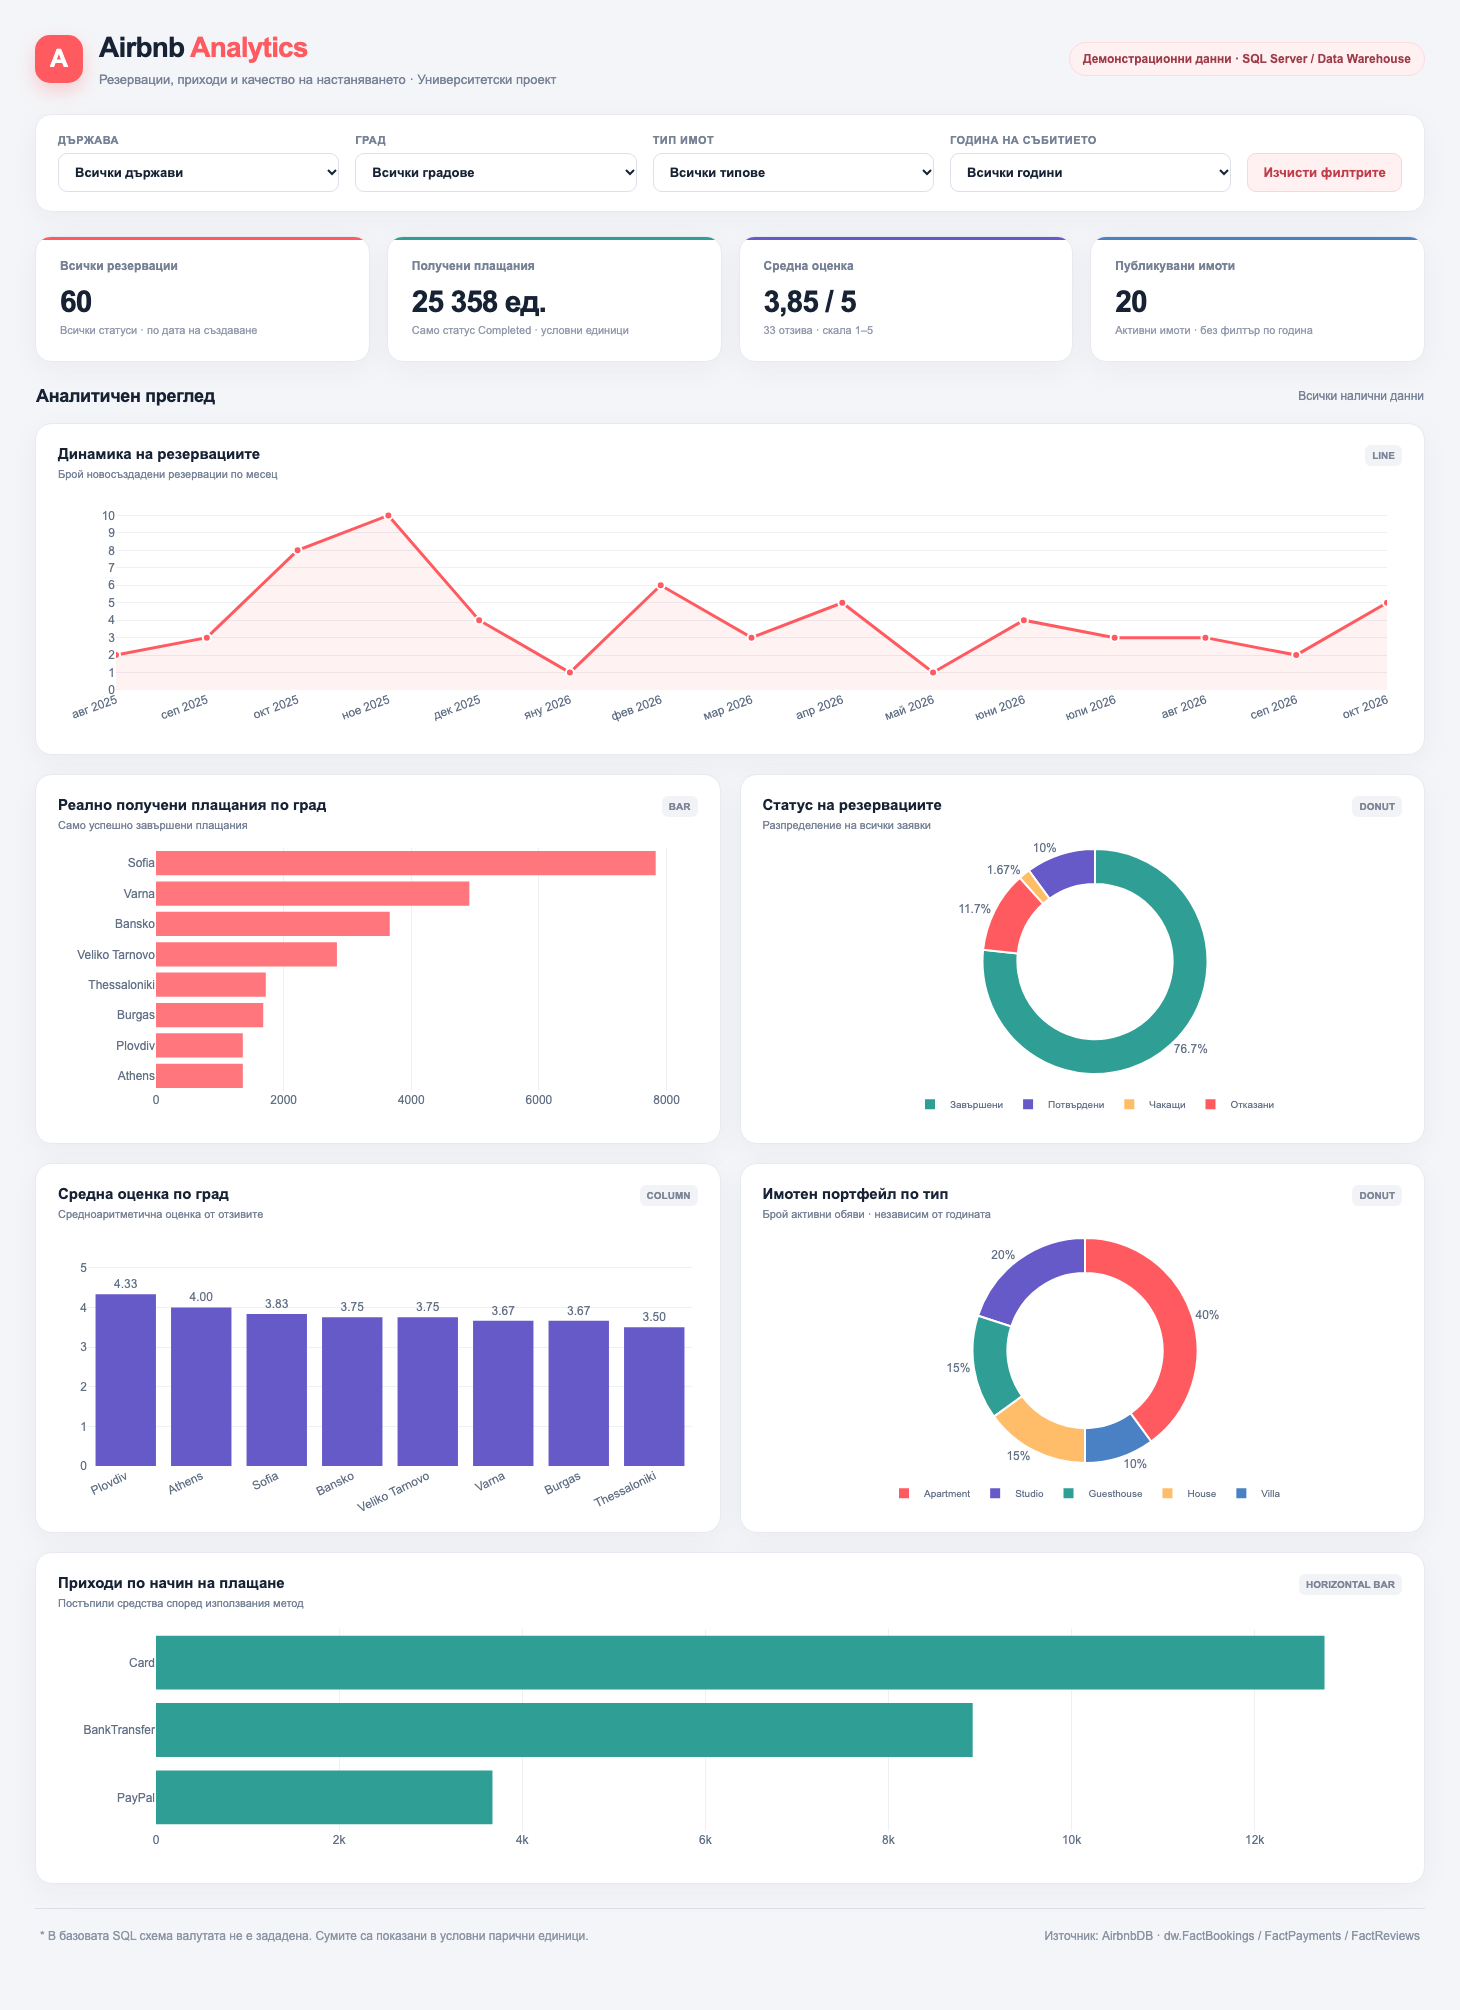

The page's visual inventory and layout, read from the dashboard file:
{"tool":"powerbi","page":{"name":"Airbnb Analytics","canvas":[1280,1720],"ordinal":0},"visuals":[{"type":"cardVisual","fields":{"Data":["FactBookings.Total Bookings"]},"box":[65,245,229,45],"z":0},{"type":"cardVisual","fields":{"Data":["FactPayments.Collected Revenue"]},"box":[365,245.2,260,45],"z":1000},{"type":"cardVisual","fields":{"Data":["FactReviews.Average Rating"]},"box":[680,245,230,45],"z":2000},{"type":"cardVisual","fields":{"Data":["FactBookings.Listings by Location"]},"box":[985,245,230,45],"z":3000},{"type":"lineChart","title":"Booking by Month","fields":{"Category":["DimDate.YearMonth"],"Y":["FactBookings.Total Bookings"]},"box":[78.2,431.7,1150.6,218.1],"z":4000},{"type":"clusteredBarChart","title":"Revenue by City","fields":{"Category":["DimLocation.CityName"],"Y":["FactPayments.Collected Revenue"]},"box":[76,752,537,239],"z":5000},{"type":"donutChart","title":"Booking Status Distribution","fields":{"Category":["DimBookingStatus.BookingStatusName"],"Y":["FactBookings.Total Bookings"]},"box":[678,752,537,239],"z":6000},{"type":"clusteredColumnChart","title":"Average Rating by City","fields":{"Category":["DimLocation.CityName"],"Y":["FactReviews.Average Rating"]},"box":[76,1104,537,234],"z":7000},{"type":"donutChart","title":"Property Types Distribution","fields":{"Category":["DimProperty.PropertyType"],"Y":["FactBookings.Listings by Location"]},"box":[678,1104,537,234],"z":12000},{"type":"clusteredBarChart","title":"Revenue by Payment Method","fields":{"Category":["DimPaymentMethod.PaymentMethodName"],"Y":["FactPayments.Collected Revenue"]},"box":[76,1434,1149,214],"z":13000},{"type":"slicer","title":"Select Country","fields":{"Values":["DimLocation.CountryName"]},"box":[75,140,245,40],"z":14000},{"type":"slicer","title":"Select City","fields":{"Values":["DimLocation.CityName"]},"box":[330,140,245,40],"z":15000},{"type":"slicer","title":"Select Property Type","fields":{"Values":["DimProperty.PropertyType"]},"box":[590,140,245,40],"z":16000},{"type":"slicer","title":"Select Year","fields":{"Values":["DimDate.YearNumber"]},"box":[844,140,245,40],"z":17000},{"type":"actionButton","box":[1100,140,145,40],"z":18000}]}

Visuals, with their boxes in screenshot pixels (x1, y1, x2, y2), scaled from the page's 1280x1720 canvas onto the 1460x2010 screenshot:
cardVisual - FactBookings.Total Bookings: BBox(74, 286, 335, 339)
cardVisual - FactPayments.Collected Revenue: BBox(416, 287, 713, 339)
cardVisual - FactReviews.Average Rating: BBox(776, 286, 1038, 339)
cardVisual - FactBookings.Listings by Location: BBox(1124, 286, 1386, 339)
"Booking by Month" lineChart: BBox(89, 504, 1402, 759)
"Revenue by City" clusteredBarChart: BBox(87, 879, 699, 1158)
"Booking Status Distribution" donutChart: BBox(773, 879, 1386, 1158)
"Average Rating by City" clusteredColumnChart: BBox(87, 1290, 699, 1564)
"Property Types Distribution" donutChart: BBox(773, 1290, 1386, 1564)
"Revenue by Payment Method" clusteredBarChart: BBox(87, 1676, 1397, 1926)
"Select Country" slicer: BBox(86, 164, 365, 210)
"Select City" slicer: BBox(376, 164, 656, 210)
"Select Property Type" slicer: BBox(673, 164, 952, 210)
"Select Year" slicer: BBox(963, 164, 1242, 210)
actionButton: BBox(1255, 164, 1420, 210)
